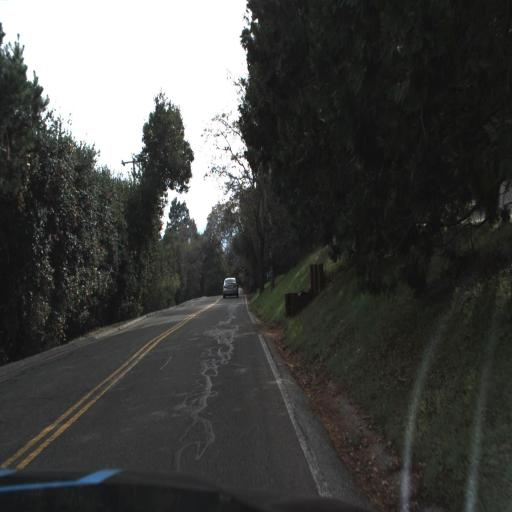car: (220, 274, 239, 298)
